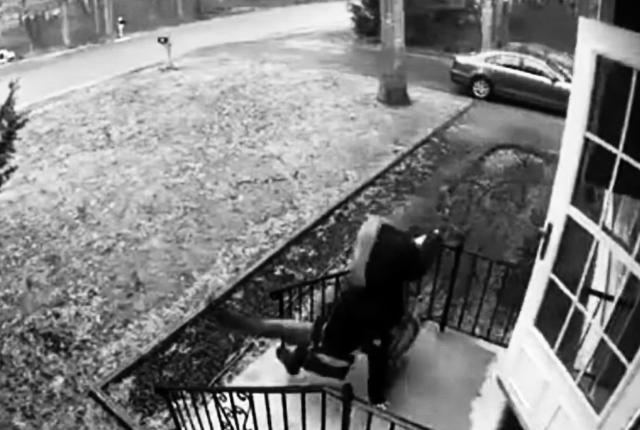jatuh: (198, 213, 447, 407)
